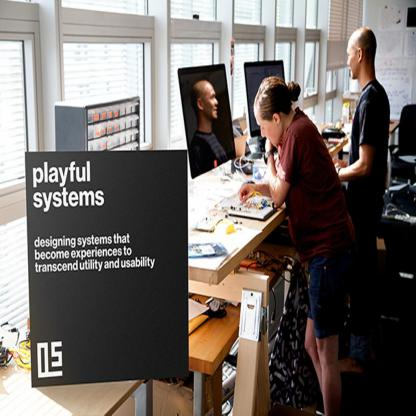face: (250, 101, 285, 150), (196, 80, 224, 124), (343, 32, 367, 83)
